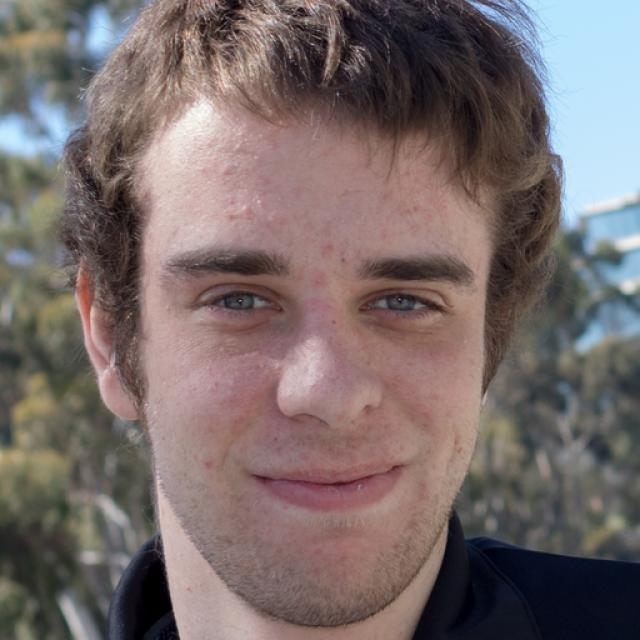Acne: (239, 189, 266, 214), (234, 192, 255, 222), (245, 150, 267, 170), (310, 267, 329, 289)
Spots: (315, 237, 341, 263)
